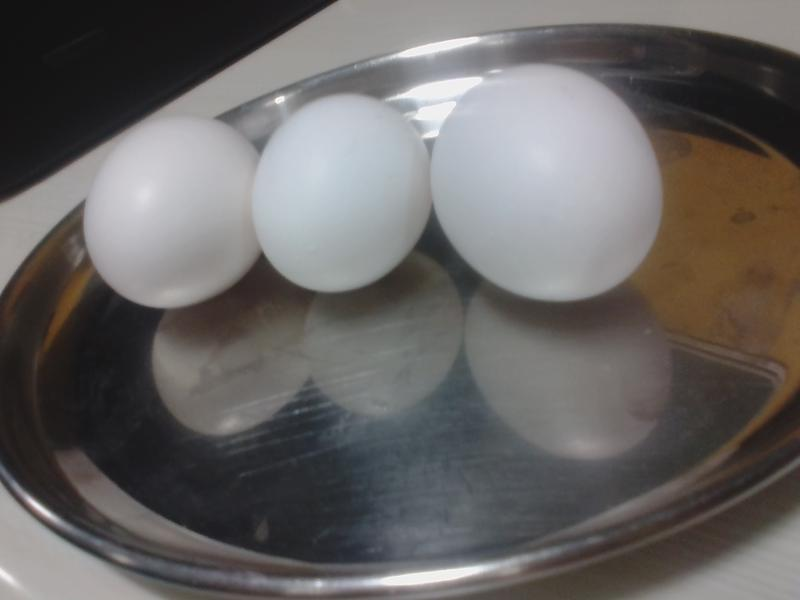egg: (256, 89, 430, 296)
